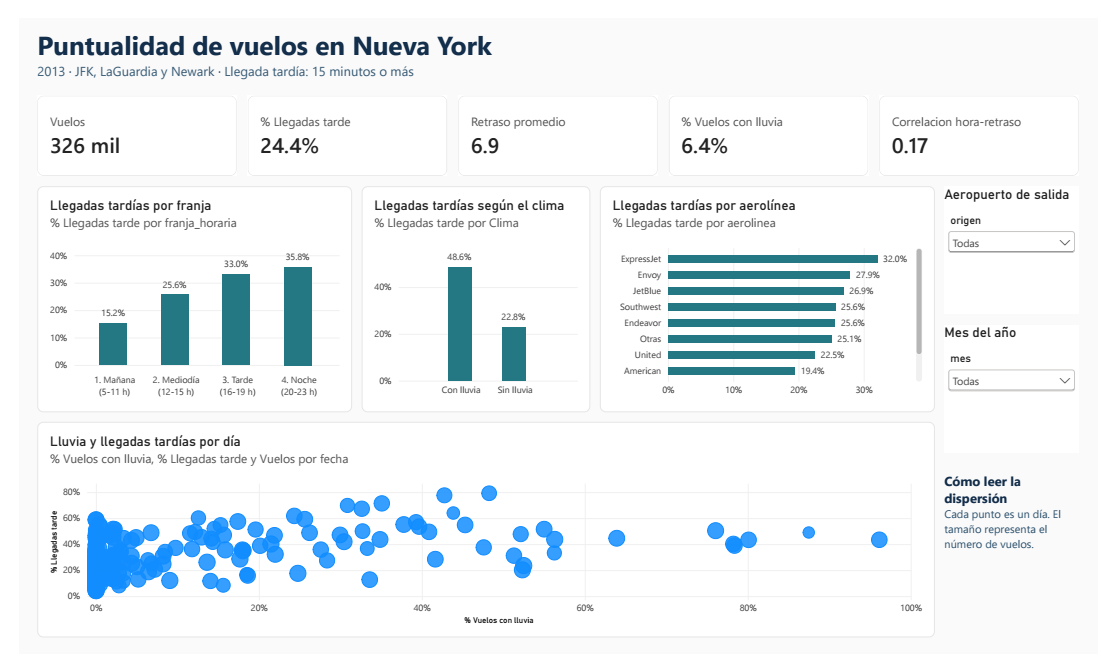

What the dashboard file says about the page in this screenshot:
{"tool":"powerbi","page":{"name":"Puntualidad de vuelos","canvas":[1440,850],"ordinal":0},"visuals":[{"type":"textbox","box":[25,12,1375,84],"z":0},{"type":"cardVisual","fields":{"Data":["vuelos.Vuelos"]},"box":[25,104,266,107],"z":0},{"type":"cardVisual","fields":{"Data":["vuelos.% Llegadas tarde"]},"box":[306,104,266,107],"z":0},{"type":"cardVisual","fields":{"Data":["vuelos.Retraso promedio"]},"box":[587,104,266,107],"z":0},{"type":"cardVisual","fields":{"Data":["vuelos.% Vuelos con lluvia"]},"box":[868,104,266,107],"z":0},{"type":"cardVisual","fields":{"Data":["vuelos.Correlacion hora-retraso"]},"box":[1149,104,266,107],"z":0},{"type":"columnChart","title":"Llegadas tardías por franja","fields":{"Category":["vuelos.franja_horaria"],"Y":["vuelos.% Llegadas tarde"]},"box":[25,225,420,302],"z":0},{"type":"columnChart","title":"Llegadas tardías según el clima","fields":{"Category":["vuelos.Clima"],"Y":["vuelos.% Llegadas tarde"]},"box":[458,225,305,302],"z":0},{"type":"barChart","title":"Llegadas tardías por aerolínea","fields":{"Category":["vuelos.aerolinea"],"Y":["vuelos.% Llegadas tarde"]},"box":[776,225,447,302],"z":0},{"type":"slicer","title":"Aeropuerto de salida","fields":{"Values":["vuelos.origen"]},"box":[1236,225,179,171],"z":0},{"type":"slicer","title":"Mes del año","fields":{"Values":["vuelos.mes"]},"box":[1236,410,179,171],"z":0},{"type":"scatterChart","title":"Lluvia y llegadas tardías por día","fields":{"Category":["vuelos.fecha"],"Size":["vuelos.Vuelos"],"X":["vuelos.% Vuelos con lluvia"],"Y":["vuelos.% Llegadas tarde"]},"box":[25,540,1198,288],"z":0},{"type":"textbox","box":[1236,606,179,160],"z":0}]}

Visuals, with their boxes in screenshot pixels (x1, y1, x2, y2), scaled from the page's 1440x850 canvas onto the 1116x672 screenshot:
textbox: l=19, t=9, r=1085, b=76
cardVisual - vuelos.Vuelos: l=19, t=82, r=226, b=167
cardVisual - vuelos.% Llegadas tarde: l=237, t=82, r=443, b=167
cardVisual - vuelos.Retraso promedio: l=455, t=82, r=661, b=167
cardVisual - vuelos.% Vuelos con lluvia: l=673, t=82, r=879, b=167
cardVisual - vuelos.Correlacion hora-retraso: l=890, t=82, r=1097, b=167
"Llegadas tardías por franja" columnChart: l=19, t=178, r=345, b=417
"Llegadas tardías según el clima" columnChart: l=355, t=178, r=591, b=417
"Llegadas tardías por aerolínea" barChart: l=601, t=178, r=948, b=417
"Aeropuerto de salida" slicer: l=958, t=178, r=1097, b=313
"Mes del año" slicer: l=958, t=324, r=1097, b=459
"Lluvia y llegadas tardías por día" scatterChart: l=19, t=427, r=948, b=655
textbox: l=958, t=479, r=1097, b=606
